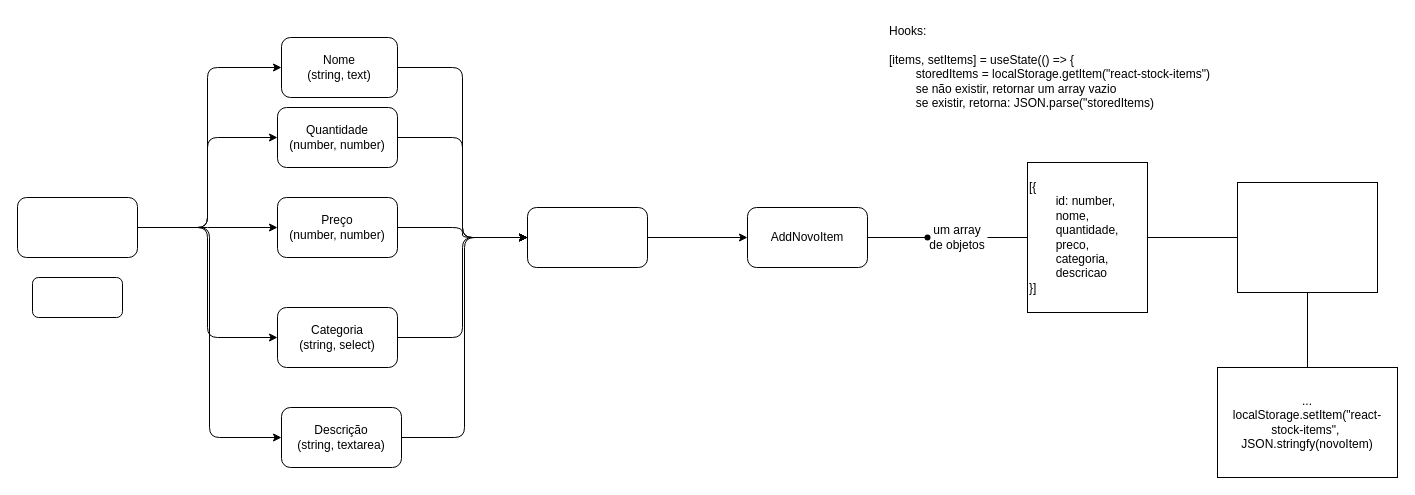
Some shapes in this 1415 by 495 pixel diagram are drawn without their labels. The box of each missing label's shape, as (x1, y1, x2, y2) in pixels:
Button submit: (32, 276, 122, 318)
Inputs: (16, 196, 138, 258)
pegar valores com useState(): (526, 206, 648, 268)
setItems((currentState) => { newState = [novoItem, ...currentState ]}): (1236, 182, 1378, 292)
